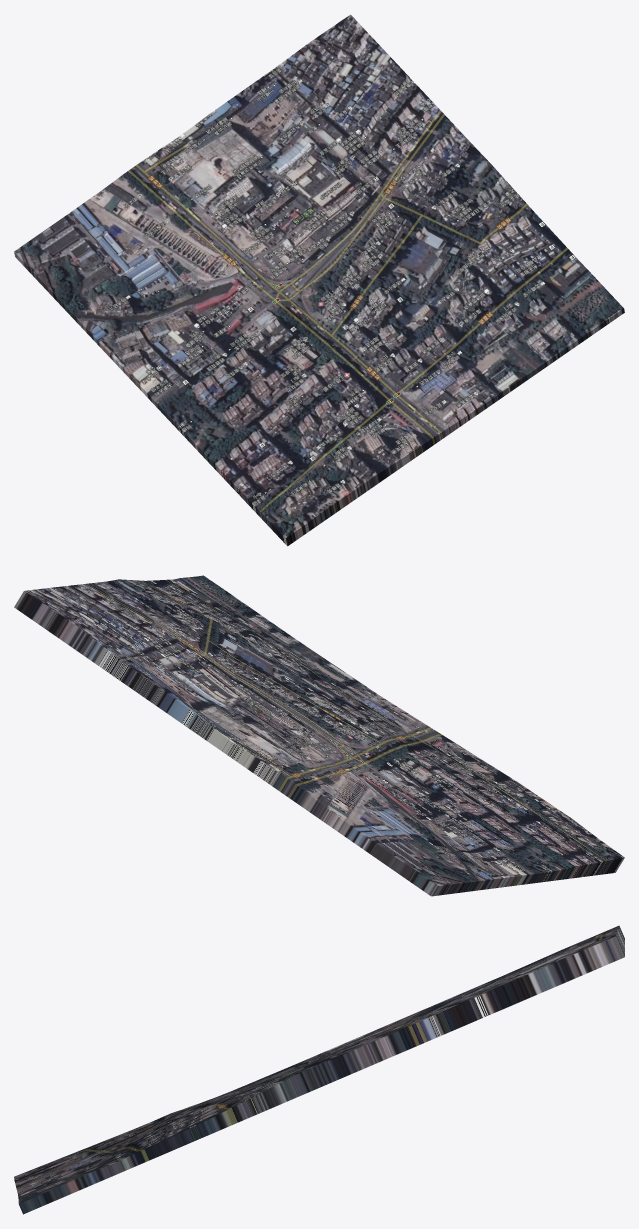
3 renders of one model, top to bottom at view 1: azimuth 30°, elevation 25°; view 2: azimuth 150°, elevation 25°; view 3: azimuth 270°, elevation 25°, orthographic. The views are drawn at different scales.
Parts seen in each view (by area): view 1: 0_3_5; view 2: 0_3_5; view 3: 0_3_5.
Part boxes in pixels (x1,y1,x2,y2): 0_3_5: (14,14,624,546); 0_3_5: (14,575,624,896); 0_3_5: (14,925,624,1214).
Size of the model in its own units: 597 by 445 by 550.
Materials: 1 (1 with a texture image).
